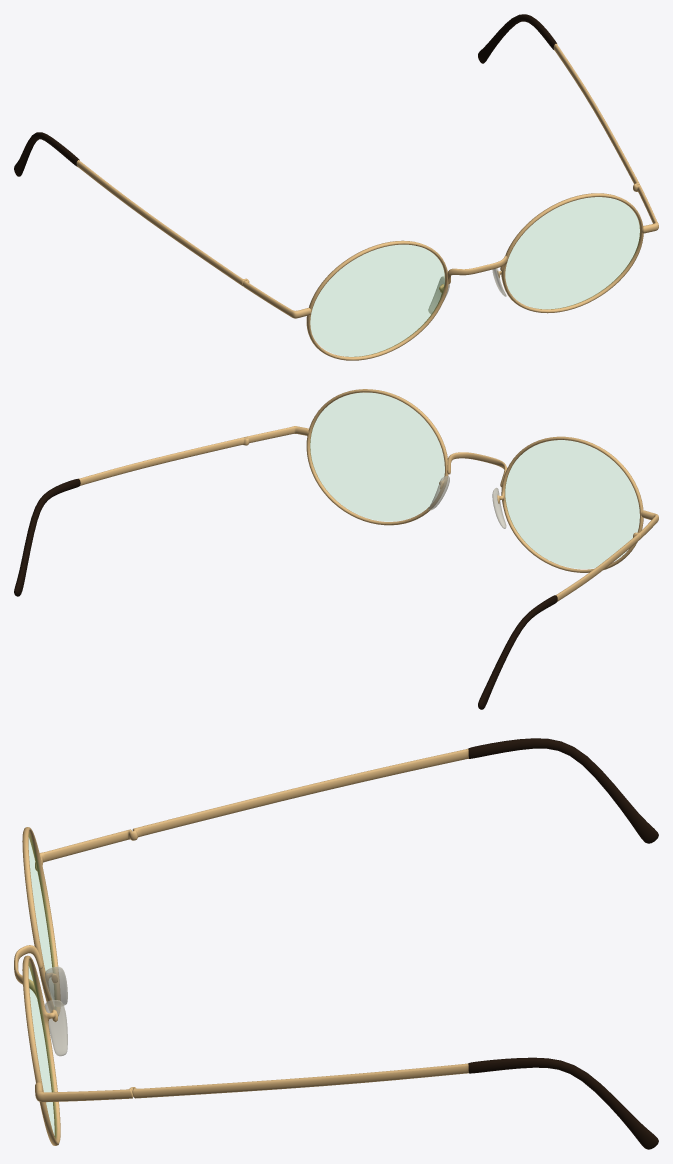
File: glasses_round2.glb
3 renders of one model, top to bottom at view 1: azimuth 30°, elevation 25°; view 2: azimuth 150°, elevation 25°; view 3: azimuth 270°, elevation 25°, orthographic. The views are drawn at different scales.
Visible parts, largest first — view 1: Sketchfab_model; view 2: Sketchfab_model; view 3: Sketchfab_model.
Part boxes in pixels (<box>): Sketchfab_model: <box>14,14,658,360</box>; Sketchfab_model: <box>14,389,658,709</box>; Sketchfab_model: <box>14,738,658,1149</box>.
Size of the model in its own units: 4.4 by 1.09 by 3.72.
